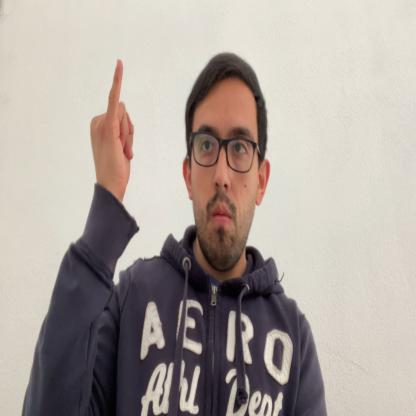I: (90, 58, 135, 205)
